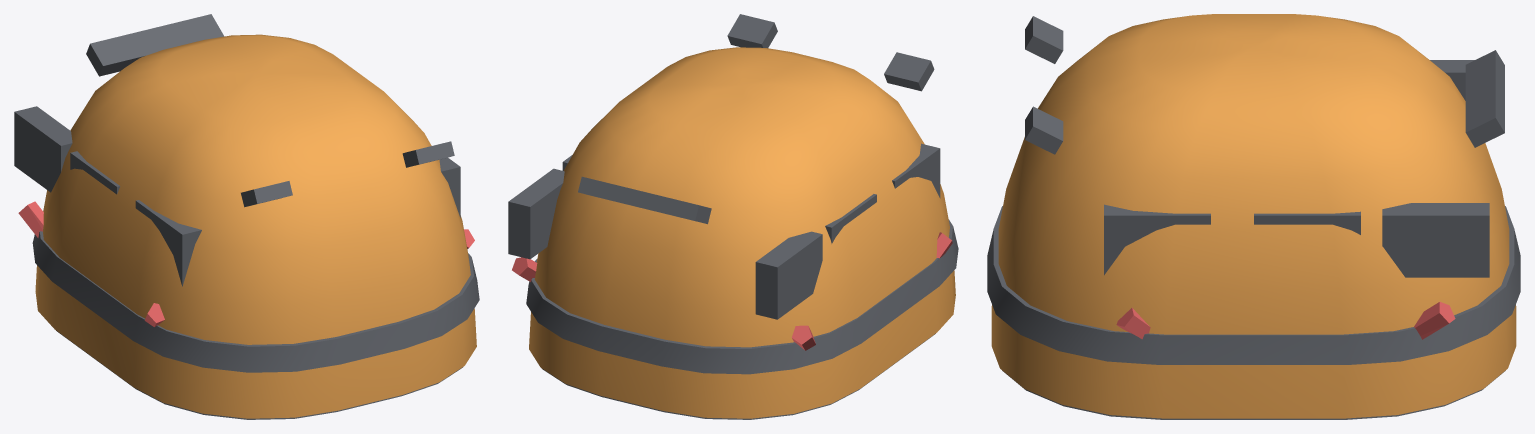
Rendered from mountaineering-and-summit-expedition-climbing-helmet-eeb2a89c__18816.glb.
The picture shows the model from 3 angles, left to right: view 1: azimuth 30°, elevation 25°; view 2: azimuth 150°, elevation 25°; view 3: azimuth 270°, elevation 25°; orthographic projection. The views are drawn at different scales.
Parts seen in each view (by area): view 1: climbing-helmet; view 2: climbing-helmet; view 3: climbing-helmet.
Boxes of the visible parts, x1,y1,x2,y2 form: climbing-helmet: (14, 14, 479, 419); climbing-helmet: (508, 14, 958, 419); climbing-helmet: (987, 14, 1520, 419).
Bounding box in the file's own units: 0.202 × 0.1467 × 0.249.
